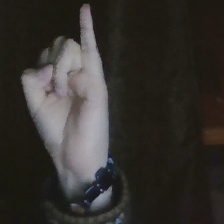I: (17, 1, 121, 159)
